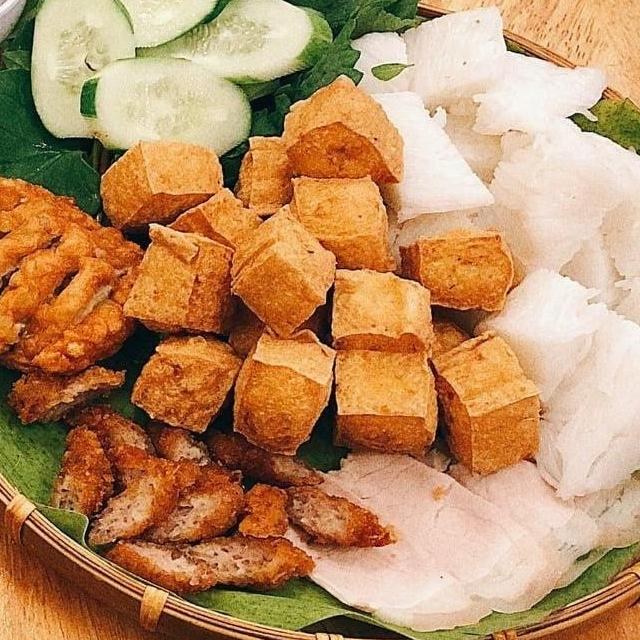bun: (343, 0, 640, 507)
bun dau: (0, 6, 640, 640)
cha com: (46, 394, 404, 604), (0, 169, 166, 421)
dau hu: (417, 318, 548, 482), (272, 70, 415, 202), (221, 311, 346, 458), (224, 198, 343, 344), (115, 216, 243, 344), (92, 127, 230, 245), (319, 336, 449, 460), (393, 220, 520, 328), (321, 260, 446, 368), (283, 168, 402, 280), (125, 330, 243, 442), (151, 180, 271, 266)
thit heo: (317, 436, 573, 620), (262, 466, 496, 640), (416, 438, 603, 598), (504, 446, 640, 589)
